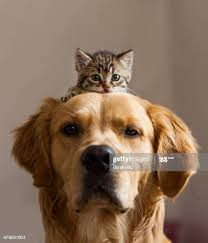cat: (70, 43, 137, 100)
dog: (12, 92, 202, 217)
